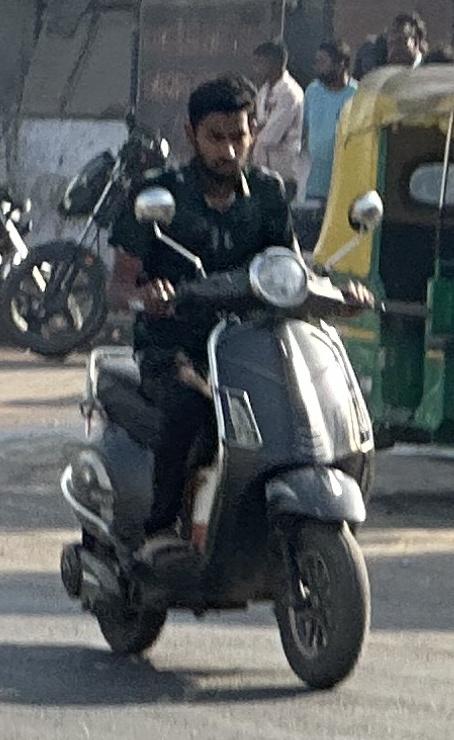BikeWithRider: (51, 58, 384, 693)
NoHelmet: (178, 71, 270, 196)
